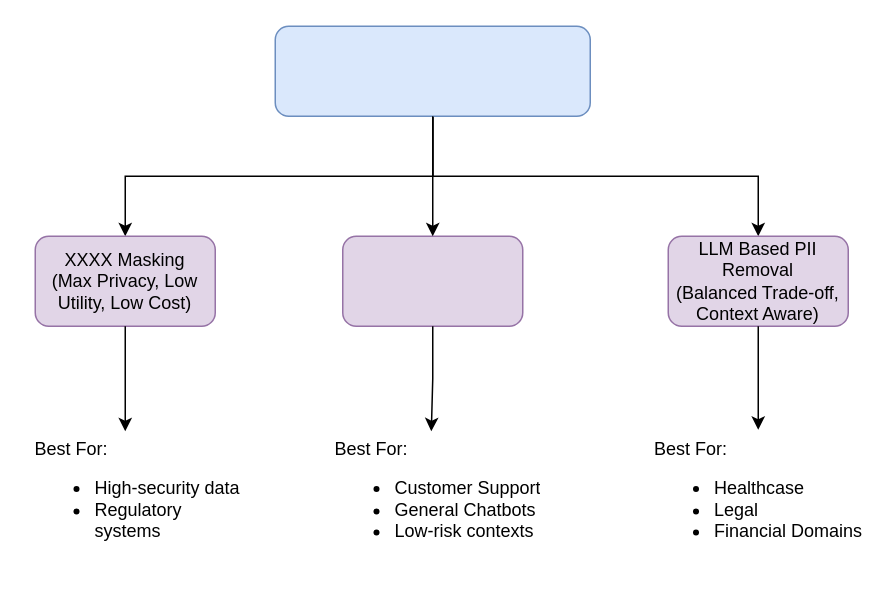
The diagram is 896 pixels wide and 593 high, and some of its shapes have lost their labels. Here are the shapes that lost their labels. From the top down, the box of each, then its label:
(274, 25, 590, 116): Application Context (Privacy & Utility Needs)
(341, 235, 523, 326): Fake Names Replacement (High Utility, Moderate Privacy)
